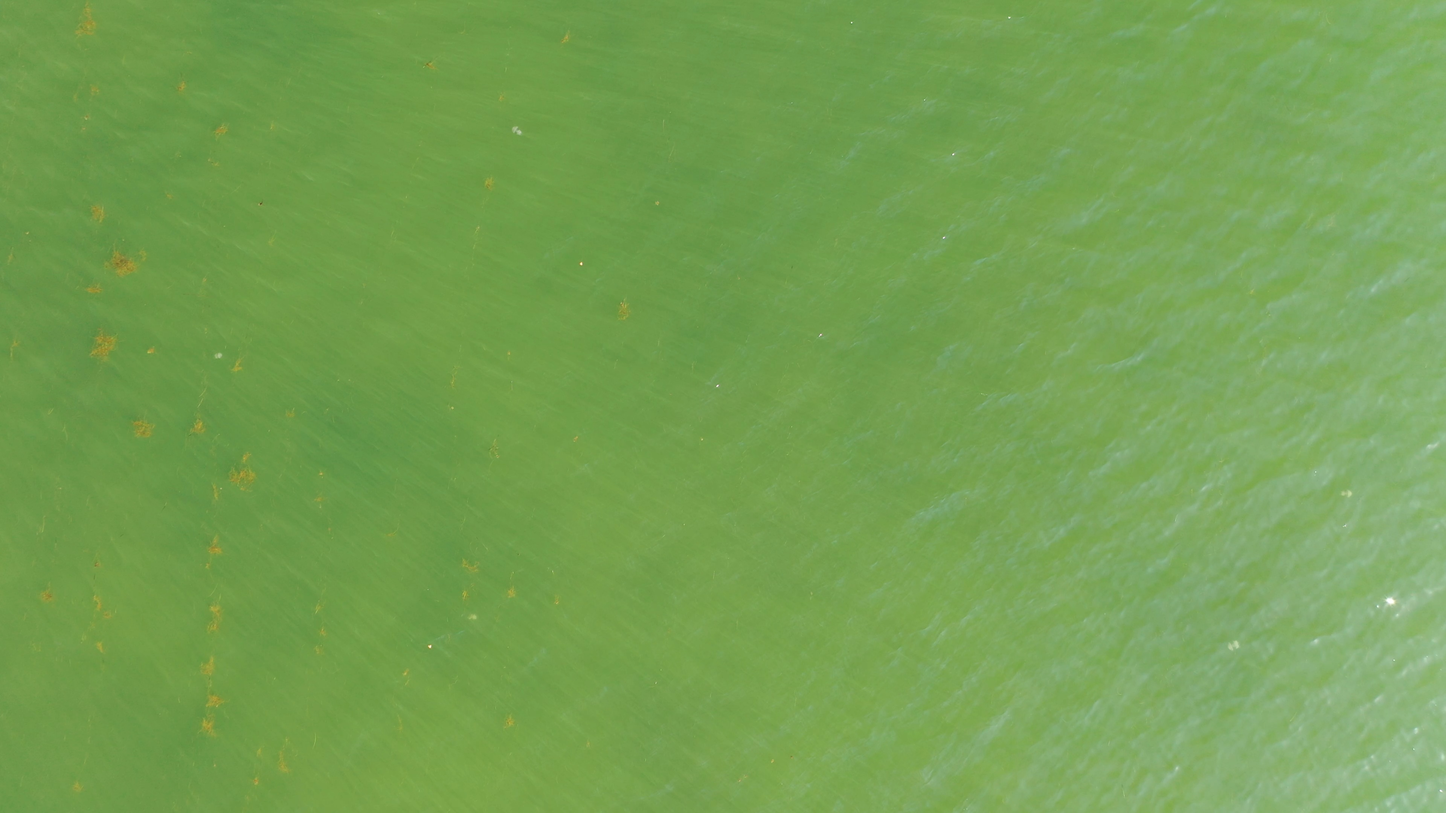meduse: (1228, 639, 1239, 650), (511, 127, 522, 137), (1342, 490, 1351, 498), (469, 613, 477, 620), (214, 353, 223, 359)
